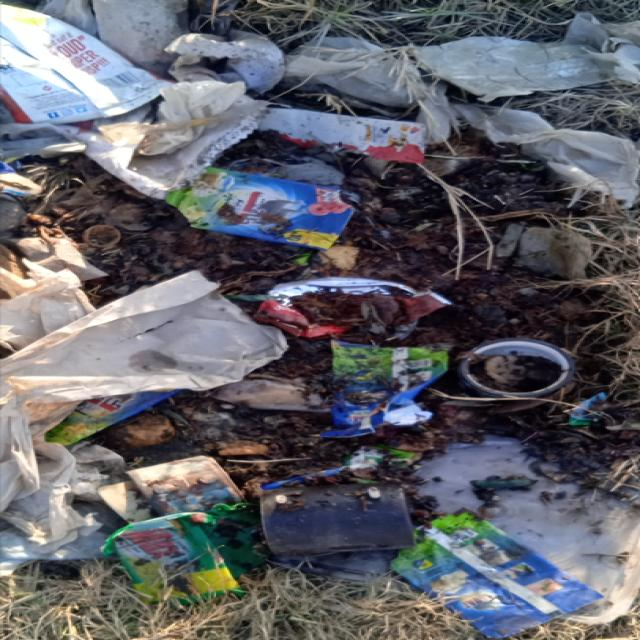electronic: (388, 508, 604, 638), (160, 160, 358, 254), (256, 482, 417, 558), (100, 515, 236, 599), (252, 106, 427, 164), (43, 388, 181, 447), (0, 62, 102, 124)
general: (478, 100, 637, 198)
